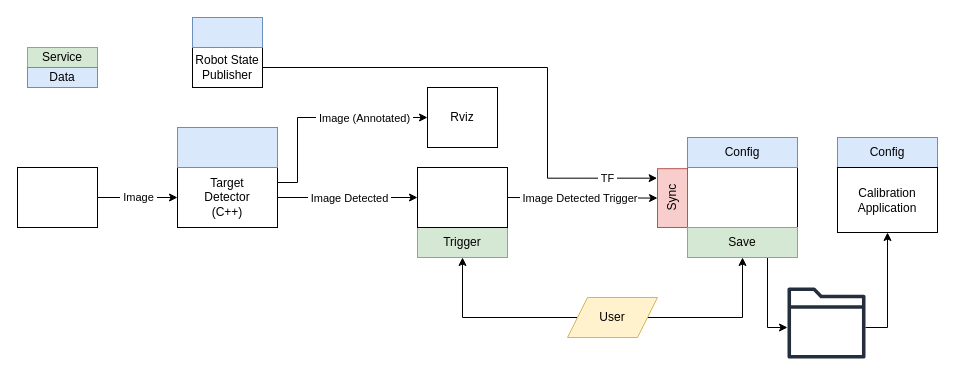
This 955x376 diagram has some shape labels left out. The shapes that lost their labels are listed below. From the top down, each one's centre as x and y in pixels, then its label:
At point 227,32: "URDF".
At point 227,147: "Target Plugin".
At point 57,197: "Camera Driver".
At point 462,197: "Image Trigger (Python)".
At point 742,197: "Data Collector (Python)".
At point 826,322: "Filesystem".
